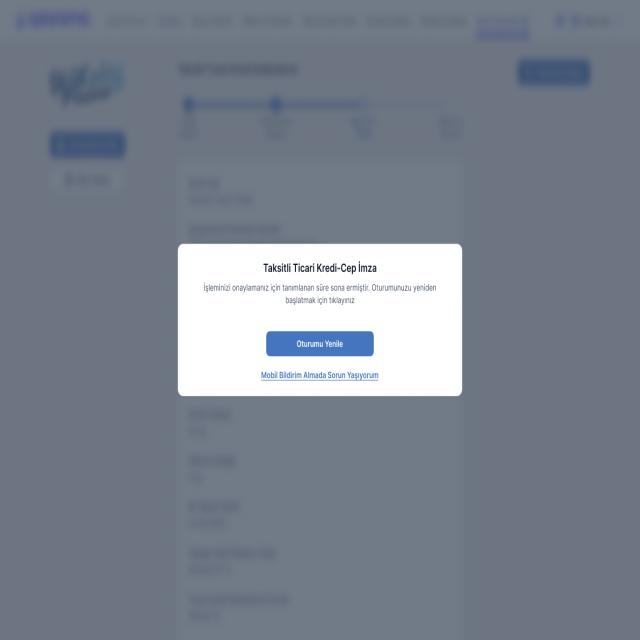QLabel: (199, 282, 434, 304), (258, 260, 378, 274), (260, 370, 379, 383), (292, 338, 345, 348)
VBtn: (266, 330, 374, 358)
VDialog: (178, 245, 463, 397)
